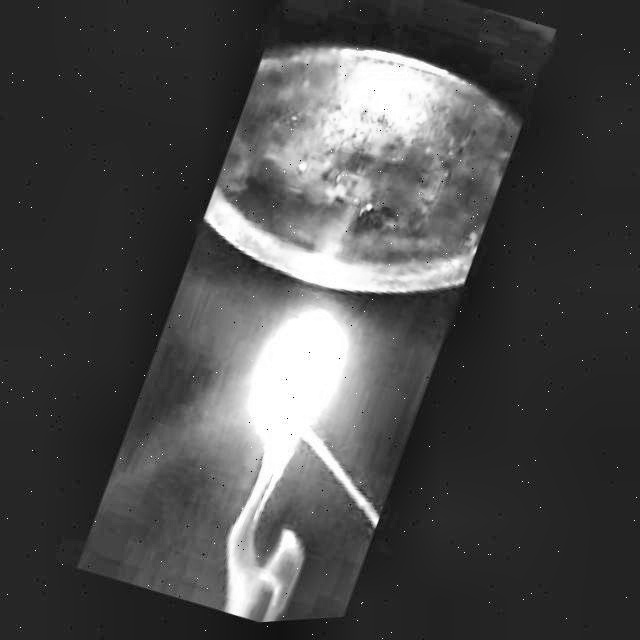Fire: (240, 316, 340, 491)
